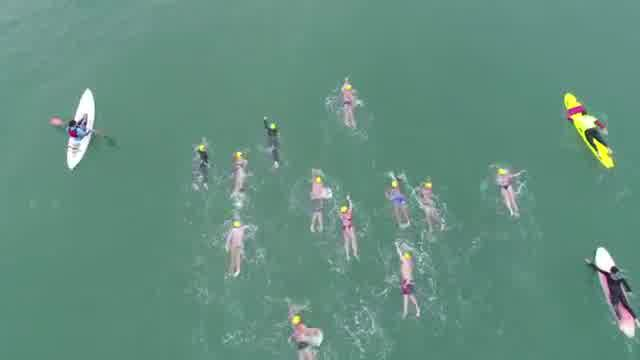human: (392, 240, 426, 320), (336, 190, 362, 260), (494, 165, 526, 221), (305, 168, 329, 238), (384, 174, 412, 228), (289, 310, 319, 358), (416, 180, 444, 231), (225, 219, 245, 278), (264, 117, 282, 173), (342, 79, 358, 134), (231, 152, 247, 195), (196, 138, 208, 194)
